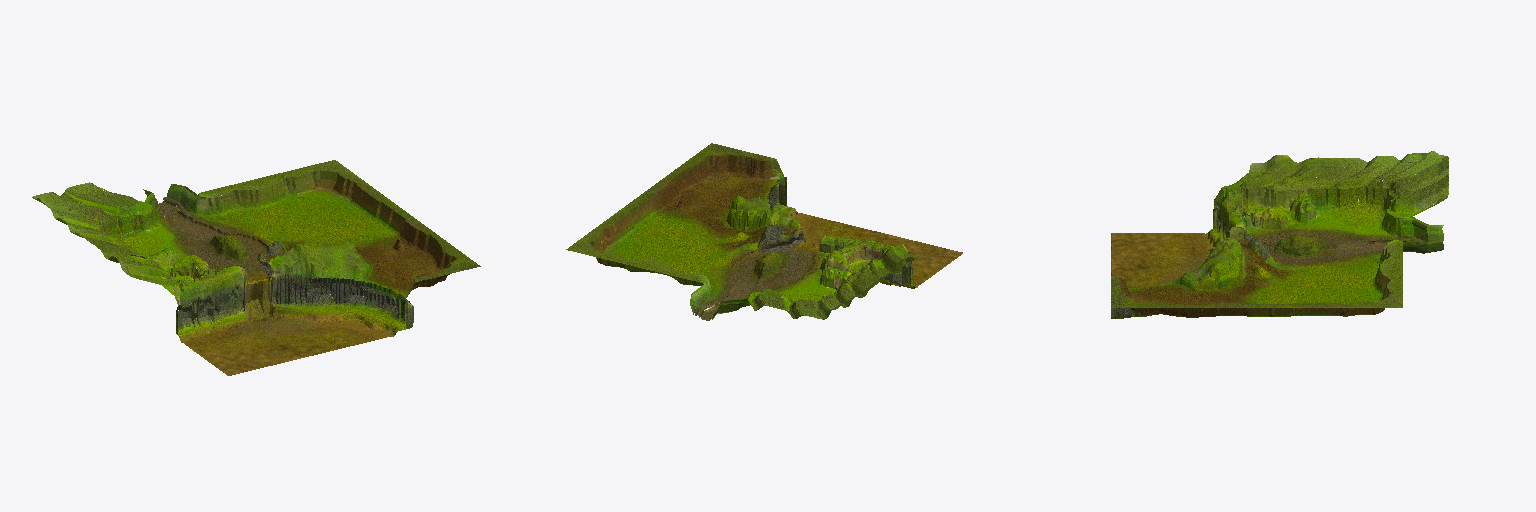
3 renders of one model, left to right at view 1: azimuth 30°, elevation 25°; view 2: azimuth 150°, elevation 25°; view 3: azimuth 270°, elevation 25°, orthographic.
Parts seen in each view (by area): view 1: Plane.001; view 2: Plane.001; view 3: Plane.001.
Boxes of the visible parts, x1=… form: Plane.001: x1=32, y1=160, x2=480, y2=375; Plane.001: x1=566, y1=143, x2=962, y2=320; Plane.001: x1=1111, y1=151, x2=1448, y2=318.
Bounding box in the file's own units: 52.32 × 13.02 × 54.3.
Materials: 1 (1 with a texture image).